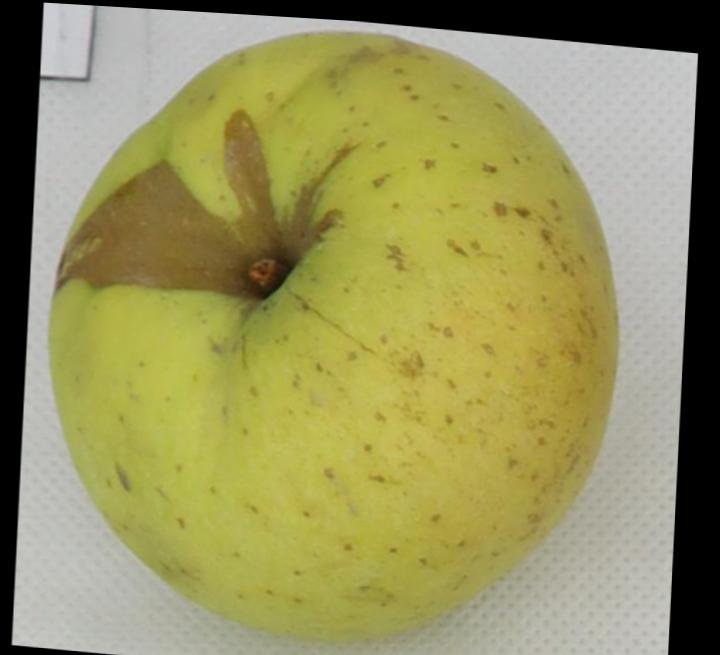apple: (50, 31, 617, 637)
bruise_discoloration: (58, 109, 359, 296)
